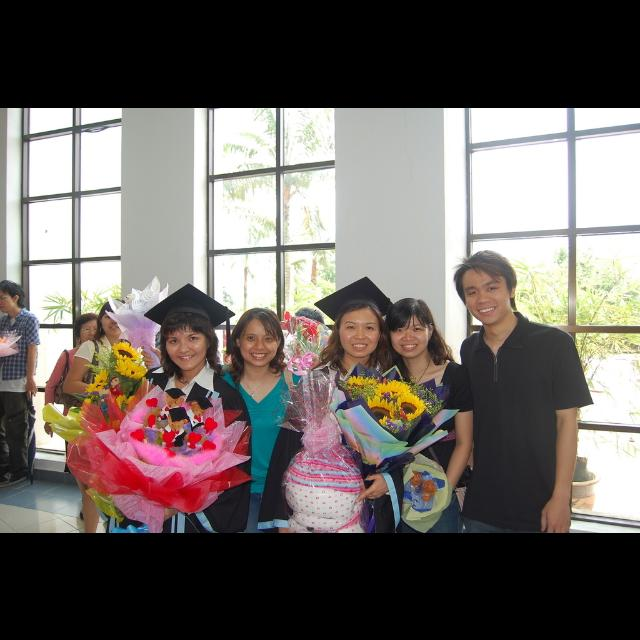Flower: (334, 370, 438, 438), (76, 341, 152, 414), (277, 305, 323, 381)
